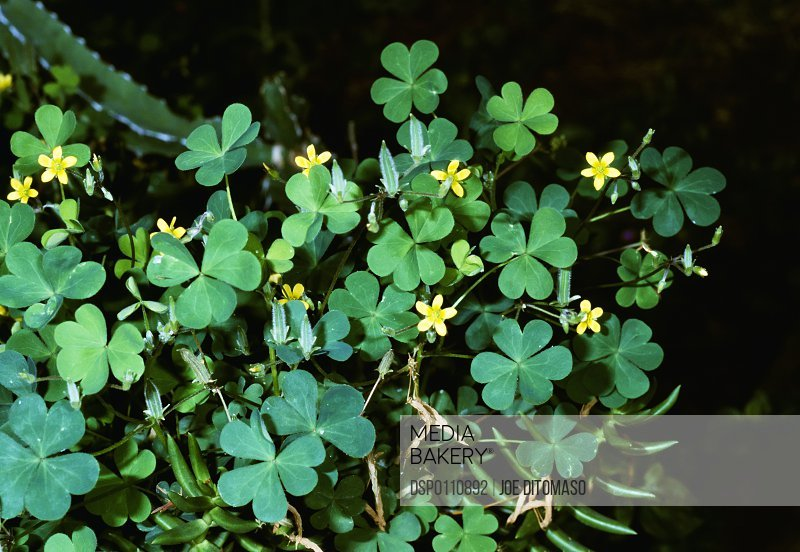oxalis: (13, 124, 698, 507)
